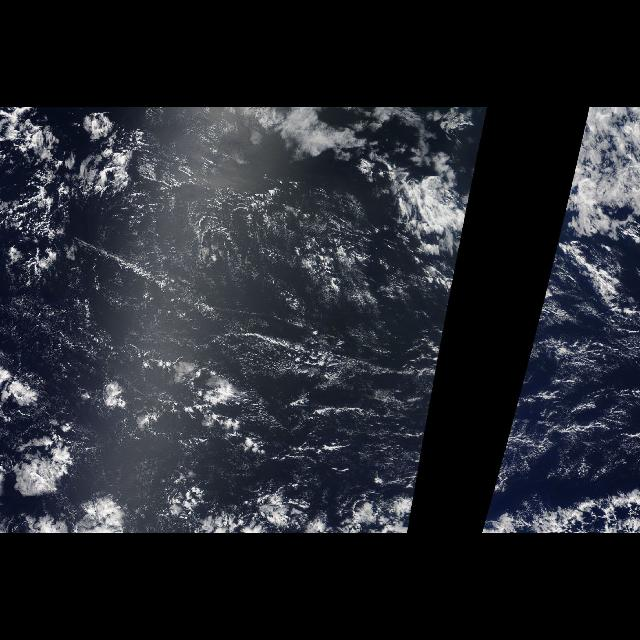Flower: (1, 362, 417, 534)
Gravel: (58, 119, 446, 478), (498, 330, 628, 468)
